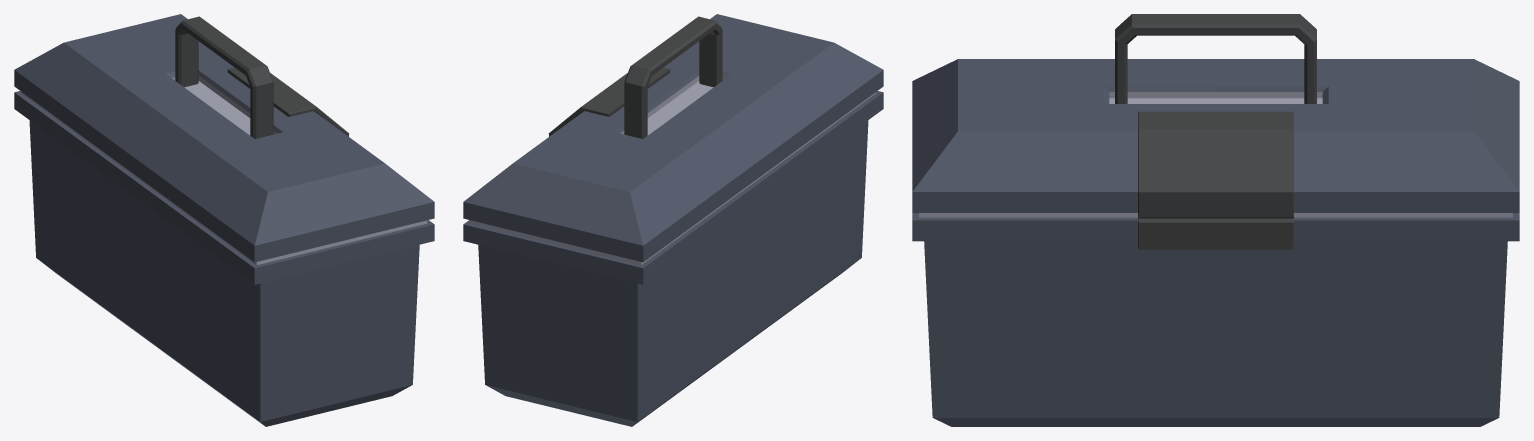
The picture shows the model from 3 angles, left to right: view 1: azimuth 30°, elevation 25°; view 2: azimuth 150°, elevation 25°; view 3: azimuth 270°, elevation 25°; orthographic projection. The views are drawn at different scales.
Visible parts, largest first — view 1: box.002; view 2: box.002; view 3: box.002.
Boxes of the visible parts, bbox=[...] form: box.002: bbox=[14, 14, 434, 426]; box.002: bbox=[463, 14, 883, 426]; box.002: bbox=[912, 14, 1519, 426].
Bounding box in the file's own units: 0.5805 × 0.8795 × 1.31.
